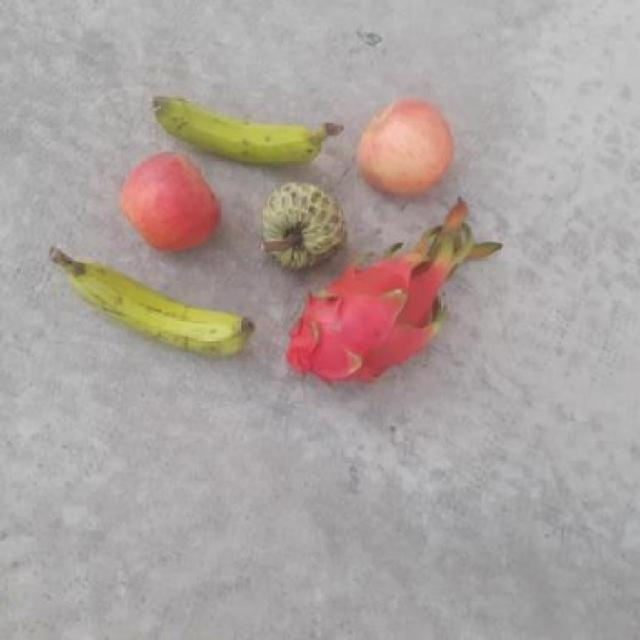apple: (119, 150, 223, 253), (354, 97, 454, 195)
banana: (66, 245, 256, 360), (150, 84, 335, 168)
dragon fruit: (280, 258, 442, 390)
sugar apple: (254, 181, 346, 270)
